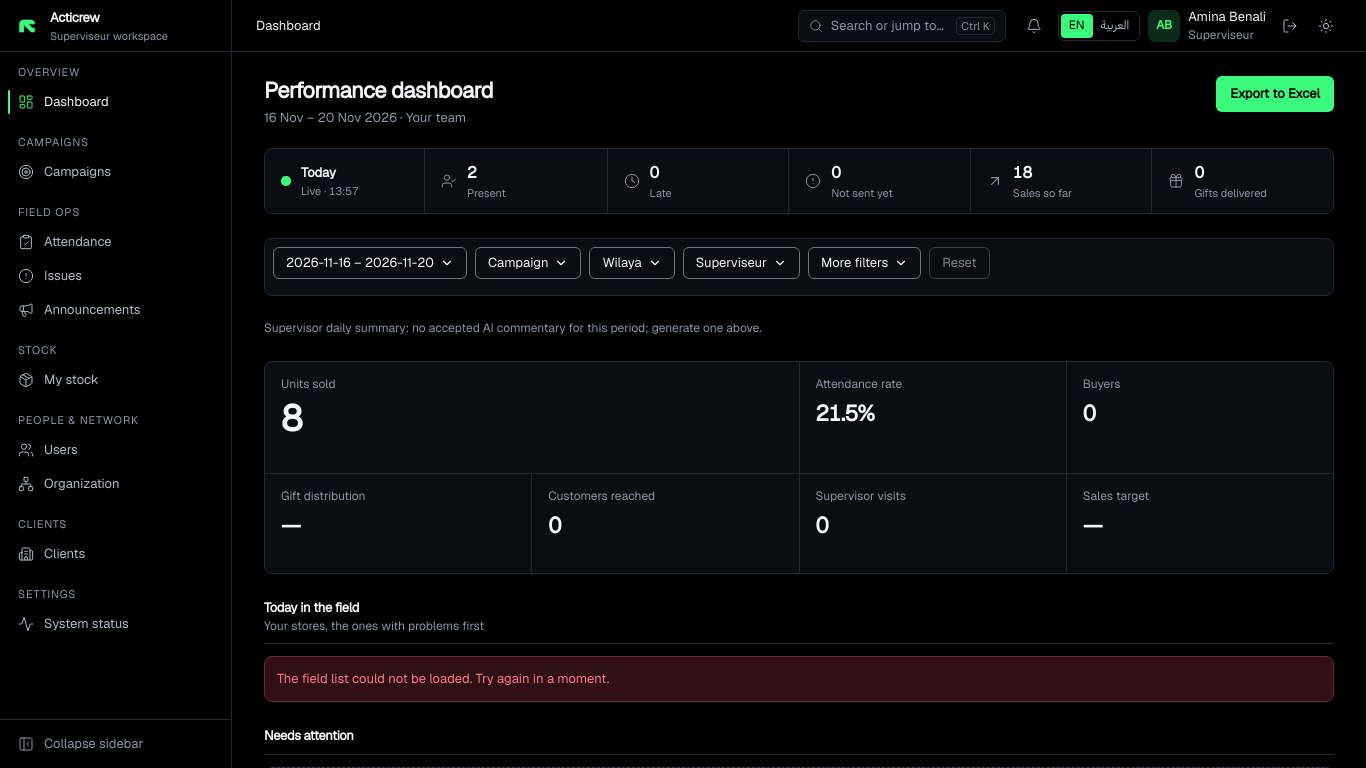
Scenario: command palette › shows nothing the role cannot list (a supervisor gets no store search)
Expected: the heading "Performance dashboard" is shown, top-left (264, 76), bottom-right (493, 104)
Step 1. Type keys "{Control>}k{/Control}"
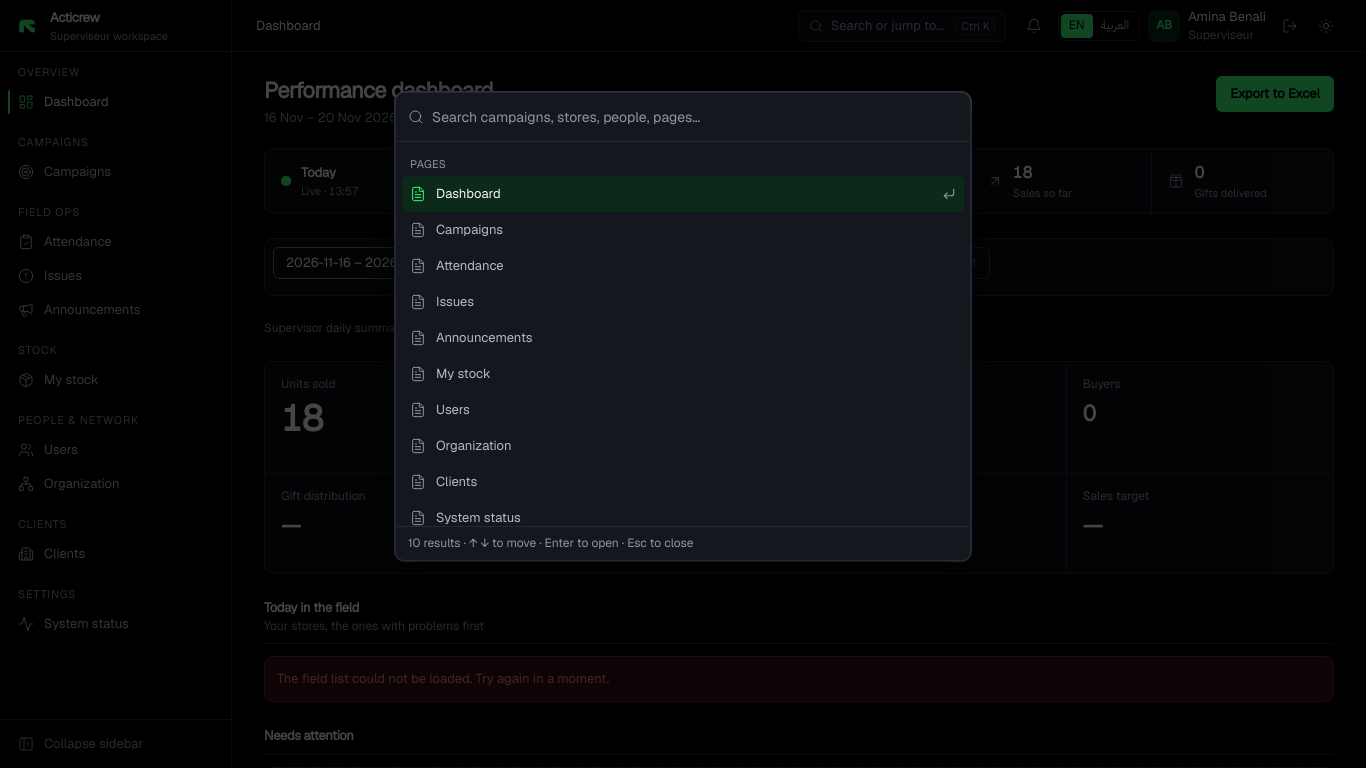
Step 2. Type "ardis" into the dropdown named "Jump to" → (695, 117), box top-left (432, 93), bottom-right (958, 141)
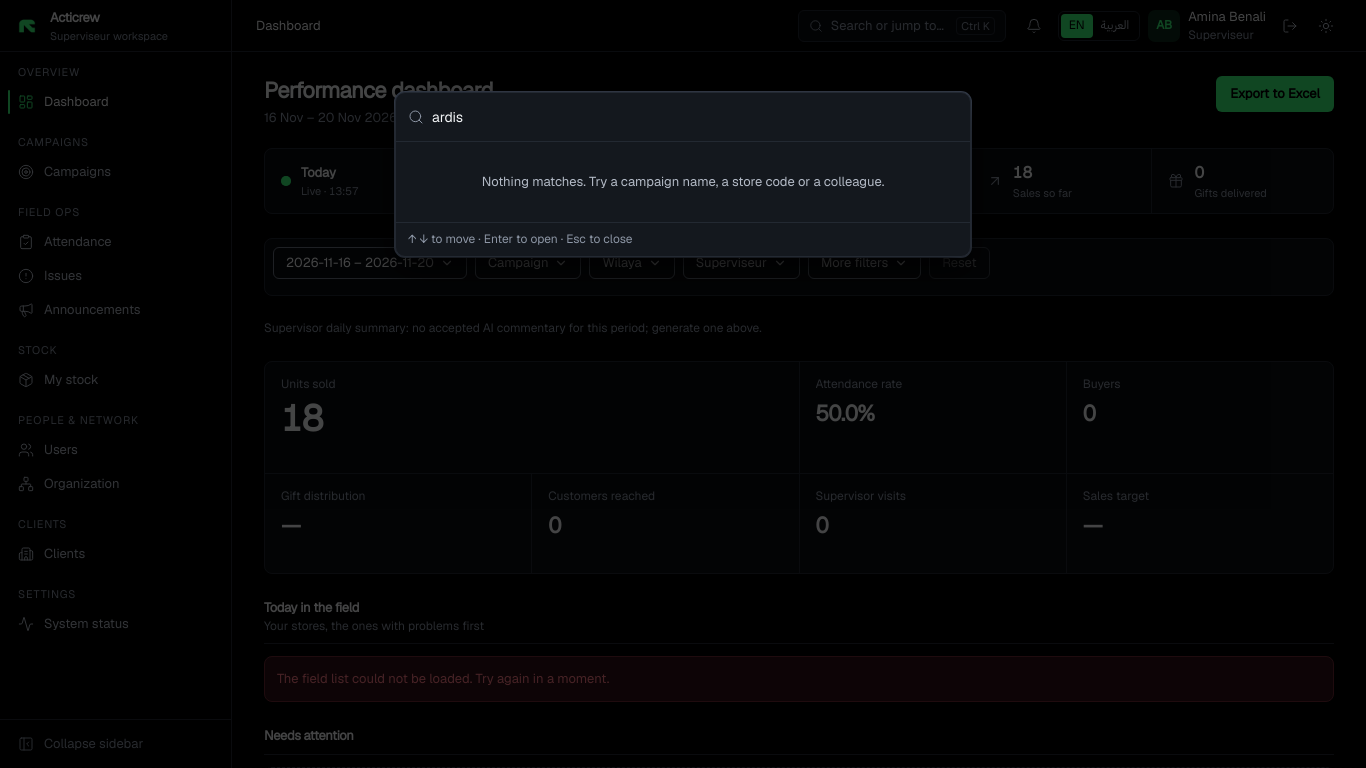
Expected: the text "Nothing matches. Try a campaign name, a store code or a colleague." is shown, top-left (482, 173), bottom-right (884, 190)
